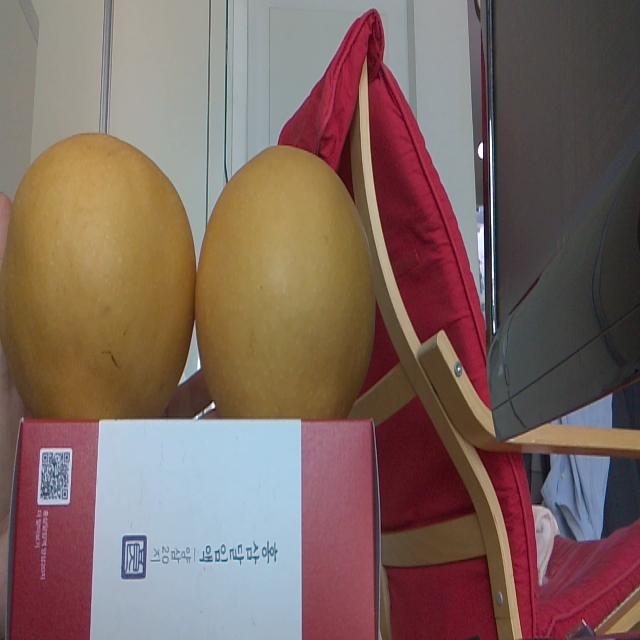pear: (2, 129, 198, 420), (196, 142, 376, 424)
